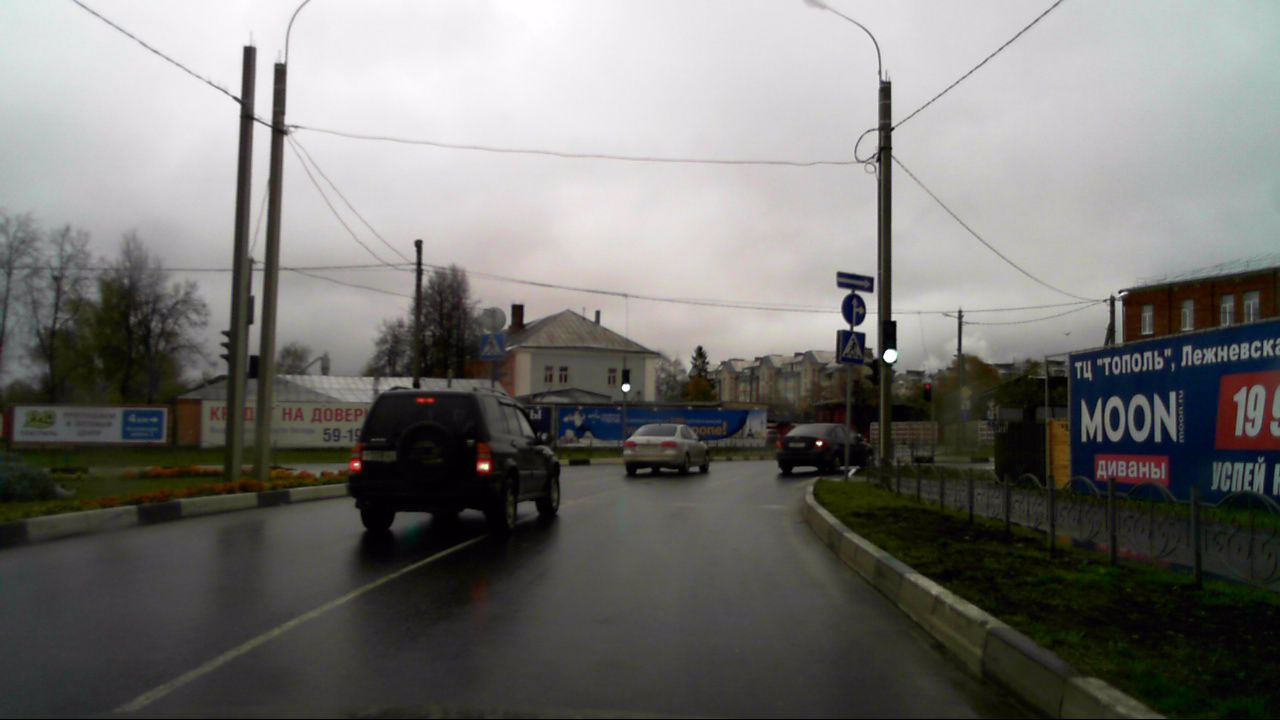One-Way Traffic: (837, 272, 874, 292)
Pedestrian Crossing: (841, 331, 865, 362)
